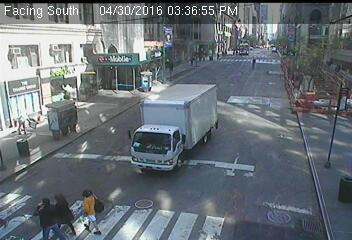neg: (198, 151, 229, 193), (270, 119, 298, 156), (167, 130, 193, 165), (43, 24, 61, 49), (139, 53, 156, 76), (202, 5, 216, 24), (149, 5, 162, 23), (90, 7, 102, 23), (52, 2, 60, 13)
pos: (72, 183, 112, 237), (28, 196, 59, 238)
